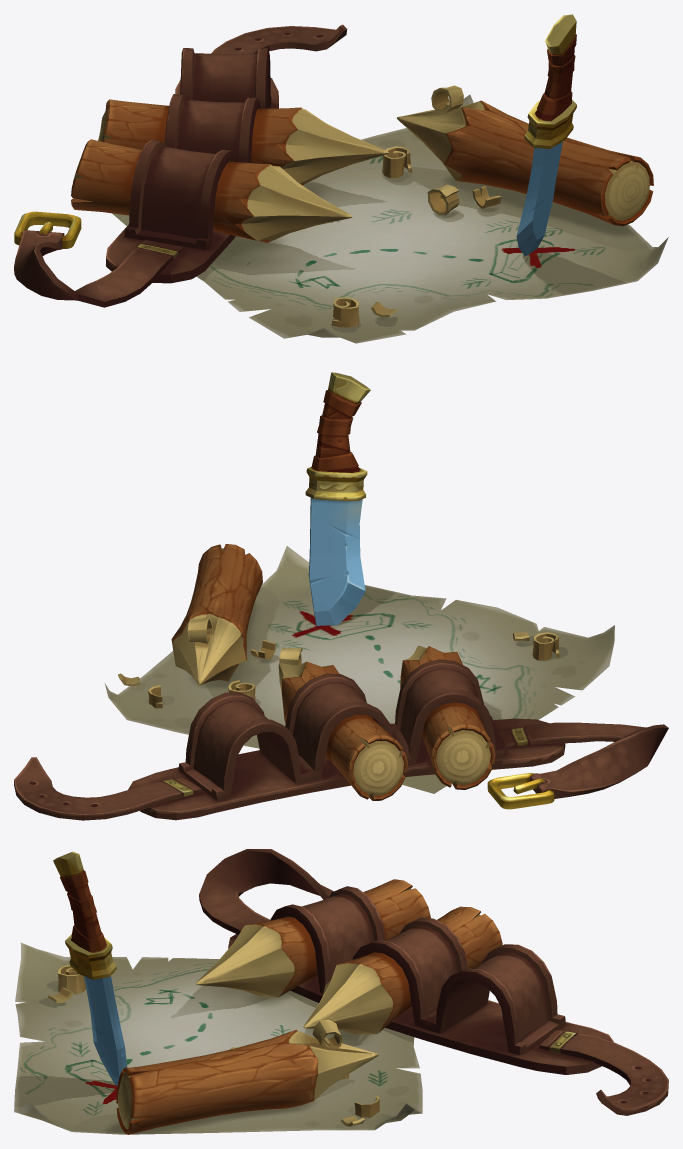
The model's file is Wooden.obj.
3 renders of one model, top to bottom at view 1: azimuth 30°, elevation 25°; view 2: azimuth 150°, elevation 25°; view 3: azimuth 270°, elevation 25°, orthographic. The views are drawn at different scales.
Parts seen in each view (by area): view 1: Cylinder.008_Cylinder.020; view 2: Cylinder.008_Cylinder.020; view 3: Cylinder.008_Cylinder.020.
Part boxes in pixels (x1,y1,x2,y2): Cylinder.008_Cylinder.020: [14, 14, 668, 343]; Cylinder.008_Cylinder.020: [14, 372, 668, 820]; Cylinder.008_Cylinder.020: [14, 849, 668, 1134].
Size of the model in its own units: 16.28 by 7.13 by 17.42.
